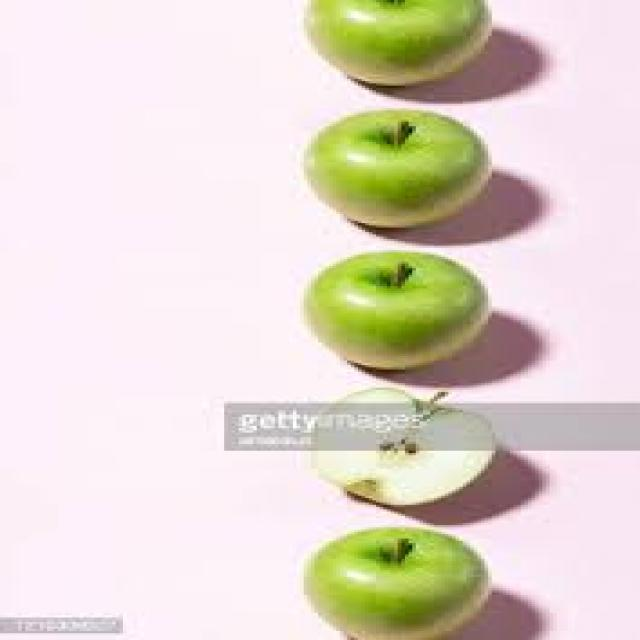Apple: (304, 110, 494, 226), (302, 256, 484, 375), (318, 391, 490, 506), (302, 533, 490, 638), (300, 0, 492, 87)
